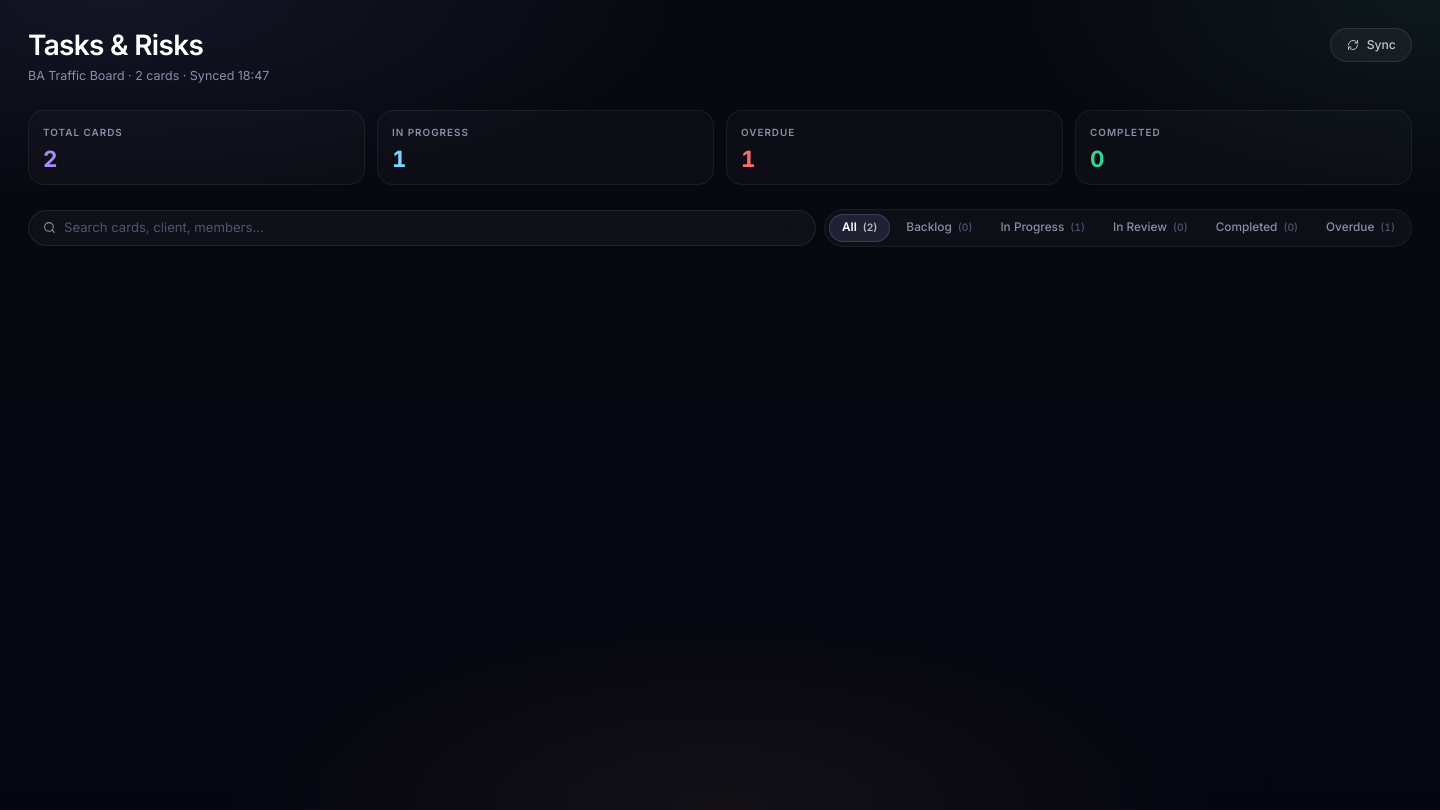
Scenario: Tasks – Filter tabs › filters to Overdue cards
The image size is (1440, 810).
Click the button with class "tab-item" showing "Overdue (1)" at [1360, 228], box [1314, 215, 1407, 241]
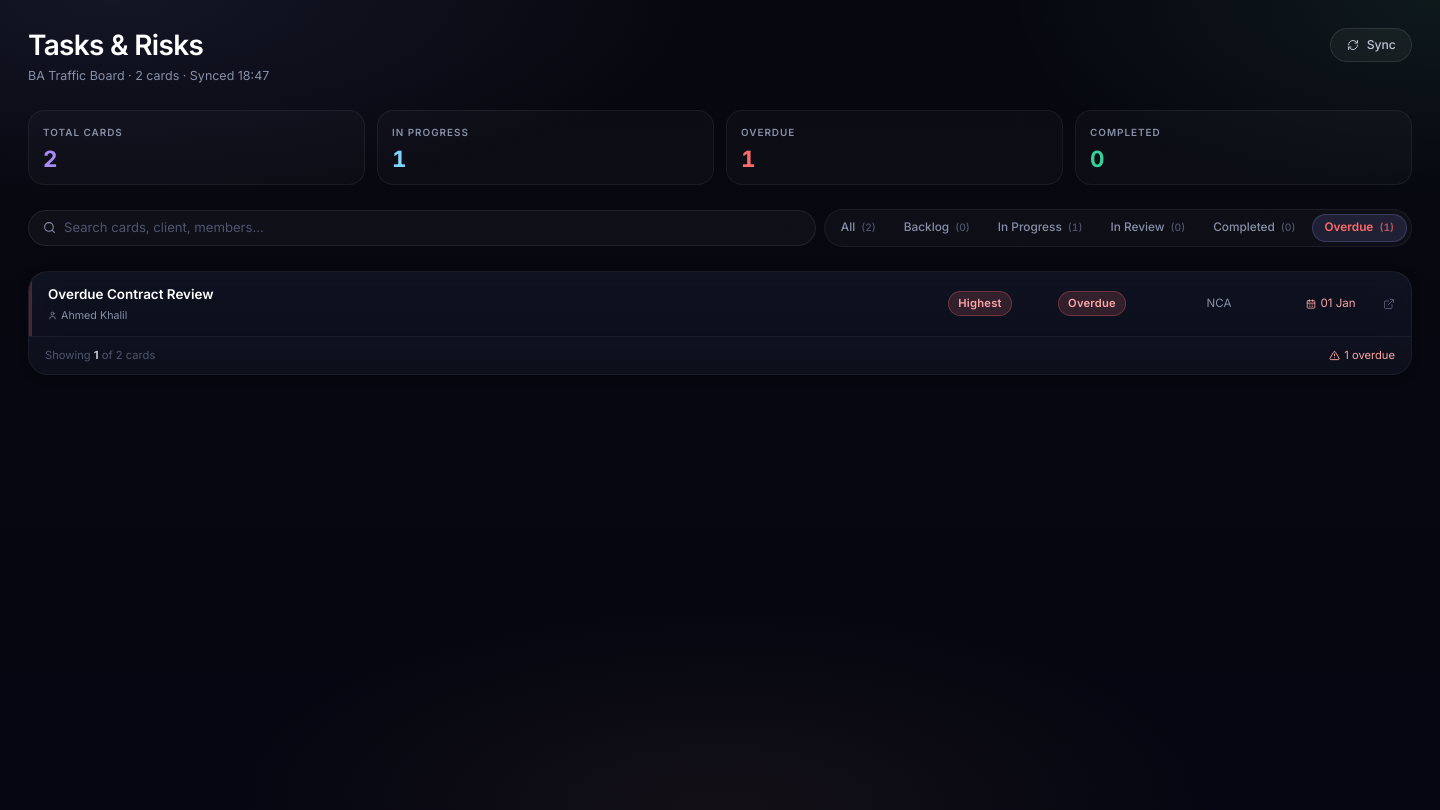
Check: the text "Overdue Contract Review" is shown, box [48, 286, 214, 302]
